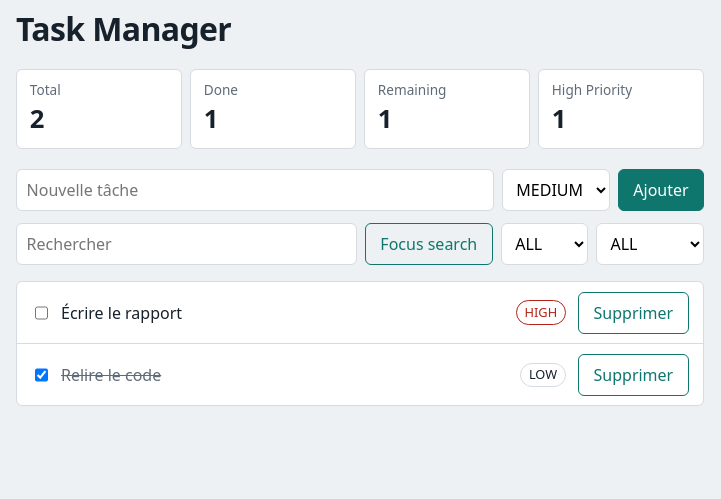
rollback du toggle optimiste si l'API échoue
The width and height of the screenshot is (721, 499).
Expected: the text "Écrire le rapport" is shown, [61,301,182,325]
Click the checkbox labelled "Écrire le rapport" at (42, 313), box [35,304,48,322]
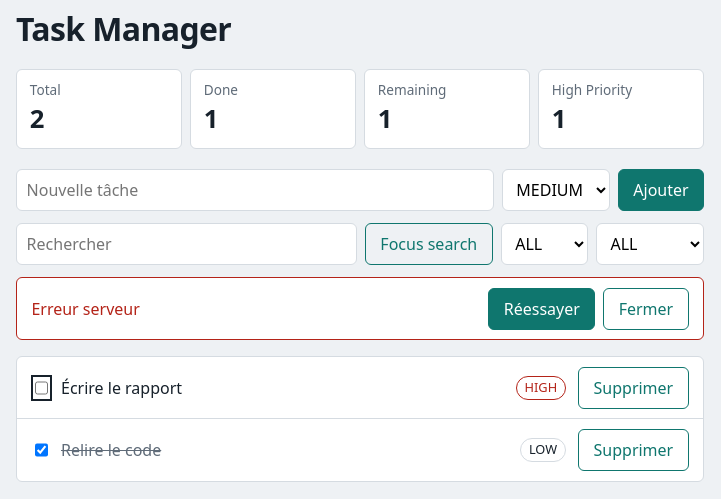
Expected: the checkbox labelled "Écrire le rapport" is not checked, [35,379,48,397]
Now the message "Erreur serveur Réessayer Fermer" is shown, box [16,277,704,340]
